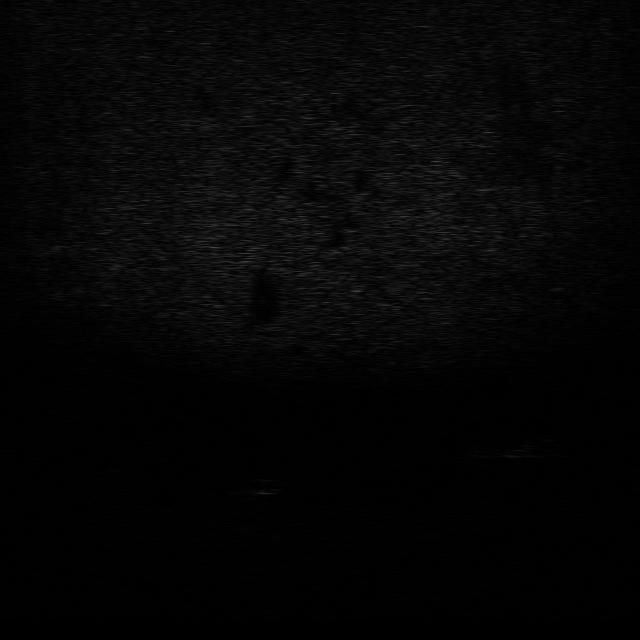ball: (237, 473, 285, 499)
human body: (460, 434, 570, 464)
